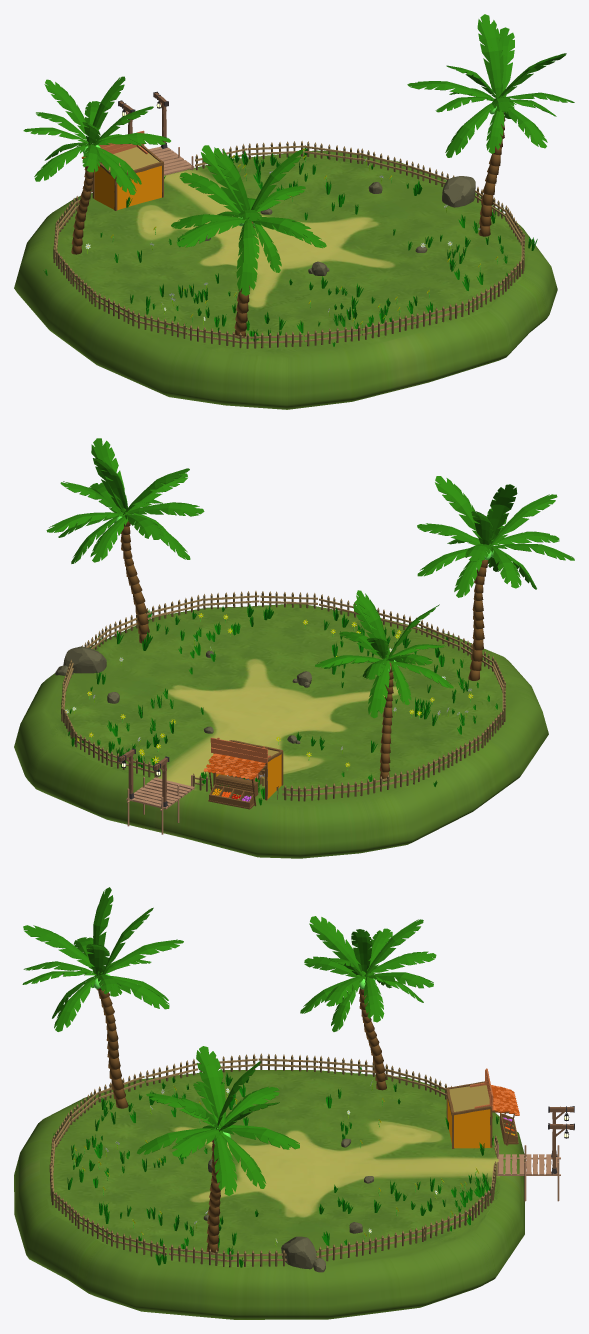
The model's file is island-transformed.glb.
3 renders of one model, top to bottom at view 1: azimuth 30°, elevation 25°; view 2: azimuth 150°, elevation 25°; view 3: azimuth 270°, elevation 25°, orthographic. The views are drawn at different scales.
Visible parts, largest first — view 1: Island, Fences, Shop; view 2: Island, Fences, Shop; view 3: Island, Fences, Shop.
Part boxes in pixels (box(x1,y1,x2,y2)): Island: box(14, 150, 557, 409); Fences: box(23, 14, 574, 348); Shop: box(94, 164, 161, 210); Island: box(14, 604, 548, 858); Fences: box(46, 438, 574, 834); Shop: box(212, 754, 281, 800); Island: box(14, 1070, 524, 1319); Fences: box(22, 887, 574, 1272); Shop: box(447, 1099, 515, 1148).
Size of the model in its own units: 179 by 99.34 by 183.
Materials: 7 (7 with a texture image).
